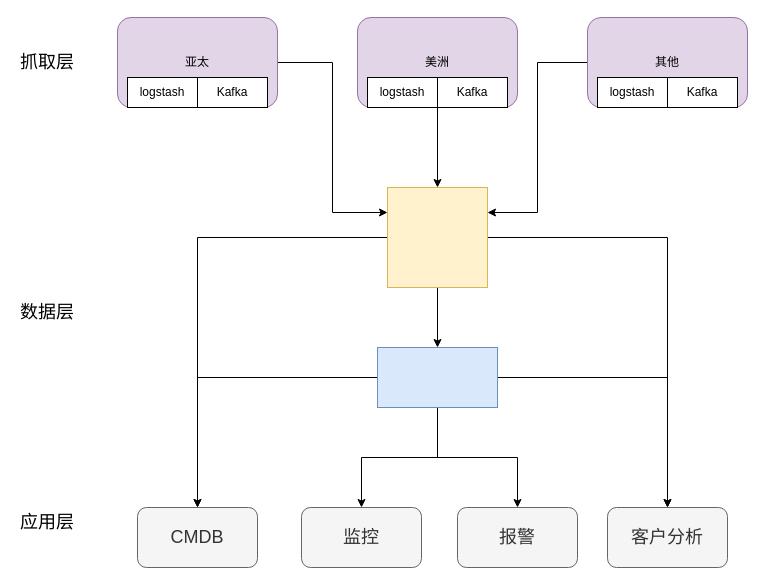
The diagram is 765 pixels wide and 585 high, and some of its shapes have lost their labels. Here are the shapes that lost their labels. From the top down, the box of each, then its label:
(386, 186, 488, 288): 中心Kafka
(376, 346, 498, 408): CK
